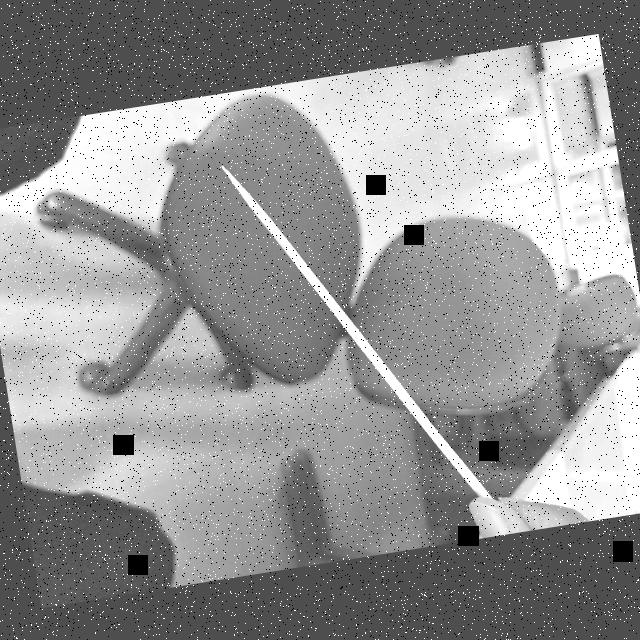stick: (219, 127, 495, 534)
